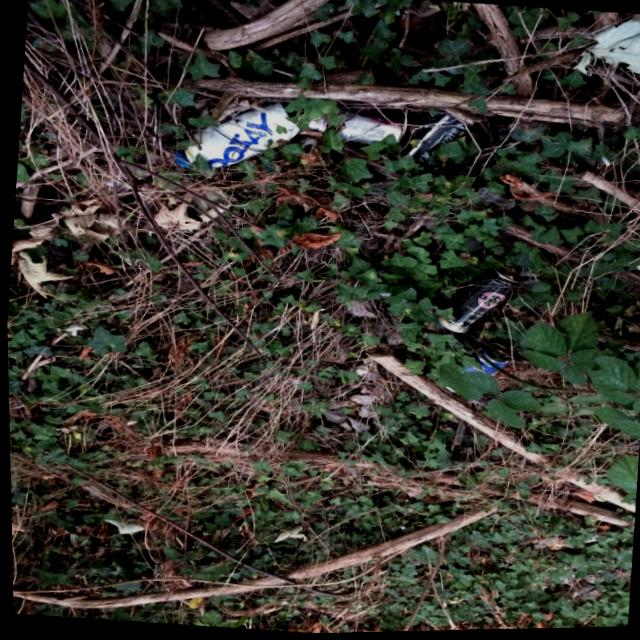Can-Metal: (286, 90, 427, 166), (423, 257, 527, 342), (460, 338, 511, 383)
Cardboard: (163, 89, 309, 189)
Plastic: (565, 10, 640, 88)
